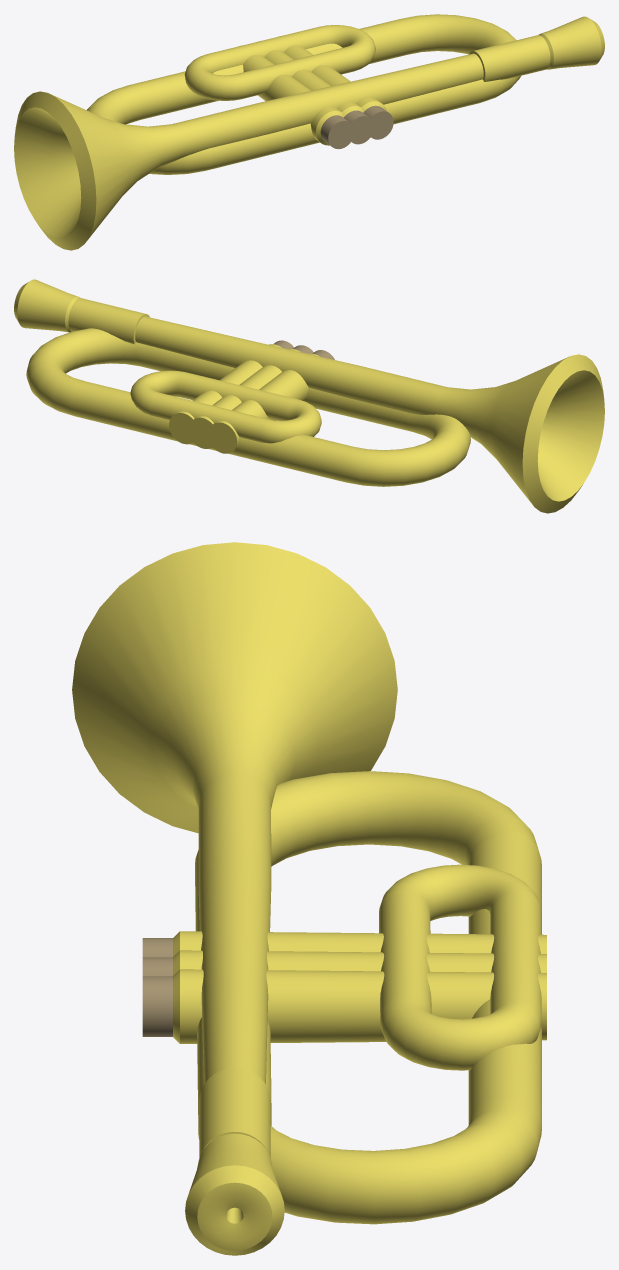
Rendered from Trumpet_1.fbx.
3 renders of one model, top to bottom at view 1: azimuth 30°, elevation 25°; view 2: azimuth 150°, elevation 25°; view 3: azimuth 270°, elevation 25°, orthographic. The views are drawn at different scales.
Parts seen in each view (by area): view 1: Cylinder.008; view 2: Cylinder.008; view 3: Cylinder.008.
Boxes of the visible parts, <box> form: Cylinder.008: <box>14,14,604,250</box>; Cylinder.008: <box>14,279,604,513</box>; Cylinder.008: <box>72,542,546,1255</box>.
Size of the model in its own units: 69.72 by 17.92 by 26.13.
